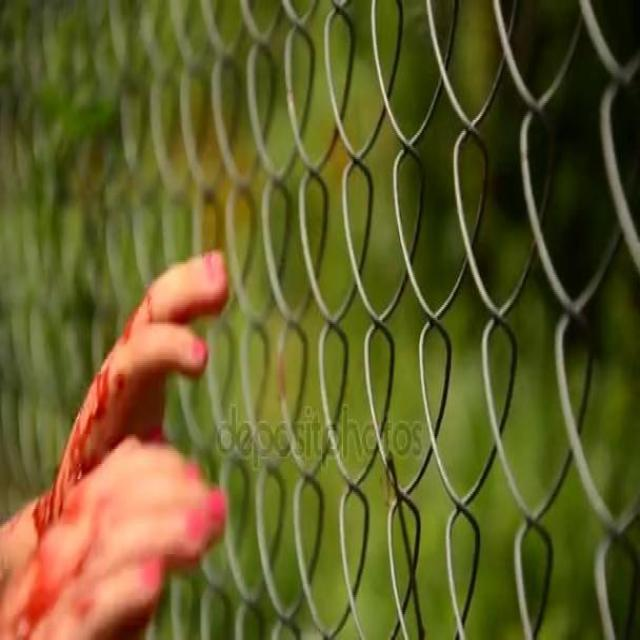flood: (35, 304, 156, 630)
